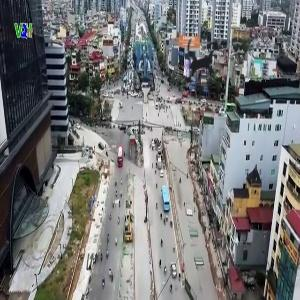drone: (150, 12, 253, 115)
